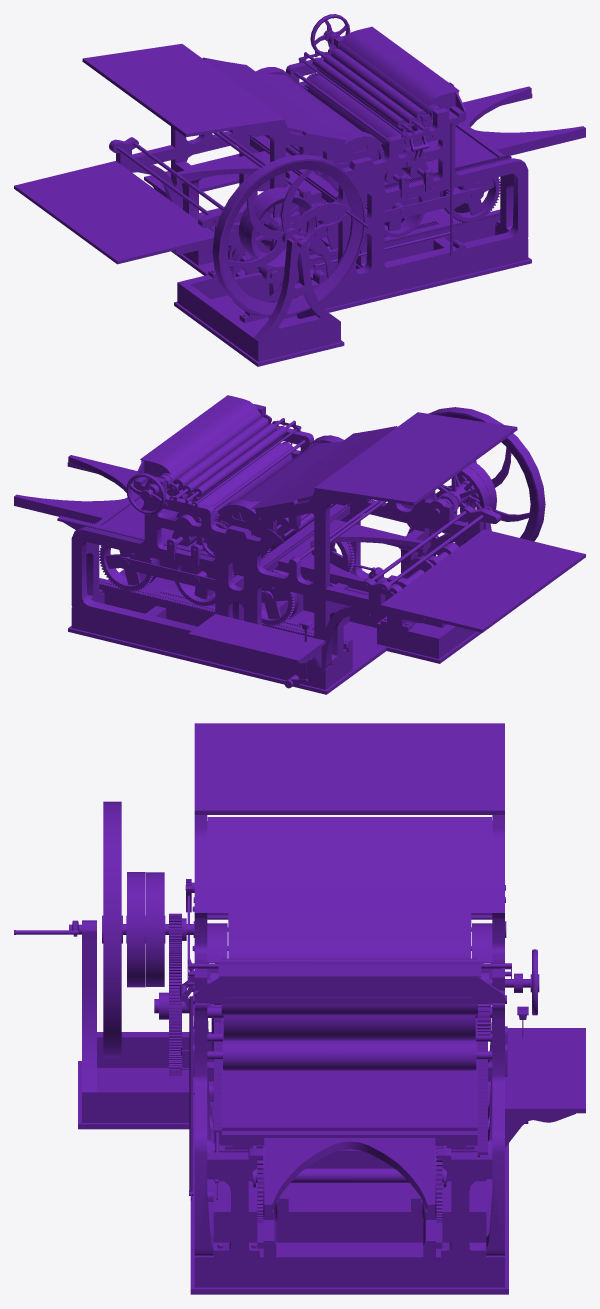
The model's file is printer.glb.
The picture shows the model from 3 angles, top to bottom: view 1: azimuth 30°, elevation 25°; view 2: azimuth 150°, elevation 25°; view 3: azimuth 270°, elevation 25°; orthographic projection. The views are drawn at different scales.
Parts seen in each view (by area): view 1: Plane.002, Plane.004, Plane.003, Cylinder.052, Cube.082, Cube.069, Plane.001, Cube.036, Cube.058, Cube.068, Cube.043, Cylinder.053 (+27 smaller); view 2: Plane.001, Plane.004, Plane.003, Cube.082, Plane.002, Cube.068, Cube.036, Plane.005, Cube.022, Cylinder.052, Cube.043, Plane.020 (+27 smaller); view 3: Plane.003, Plane.008, Plane.010, Plane.020, Cube.082, Cube.022, Cylinder.010, Cube.041, Cube.033, Plane.005, Cylinder.003, Cube.069 (+24 smaller).
Boxes of the visible parts, x1,y1,x2,y2 form: Plane.002: (173, 108, 528, 300); Plane.004: (14, 161, 214, 264); Plane.003: (82, 44, 285, 136); Cylinder.052: (212, 154, 366, 316); Cube.082: (183, 187, 528, 319); Cube.069: (177, 269, 340, 361); Plane.001: (109, 35, 345, 218); Cube.036: (342, 26, 459, 106); Cube.058: (254, 234, 340, 341); Cube.068: (208, 191, 500, 283); Cube.043: (449, 86, 585, 153); Cylinder.053: (239, 187, 317, 267); Plane.001: (71, 476, 427, 668); Plane.004: (380, 529, 585, 632); Plane.003: (314, 412, 517, 505); Cube.082: (71, 569, 416, 689); Plane.002: (254, 404, 501, 582); Cube.068: (99, 559, 386, 652); Cube.036: (140, 395, 258, 474); Plane.005: (188, 614, 325, 663); Cube.022: (68, 577, 419, 694); Cylinder.052: (401, 407, 545, 554); Cube.043: (14, 455, 150, 521); Plane.020: (244, 430, 372, 509); Plane.003: (194, 723, 504, 814); Plane.008: (194, 817, 504, 887); Plane.010: (222, 1018, 477, 1145); Plane.020: (194, 887, 504, 939); Cube.082: (194, 1096, 504, 1287); Cube.022: (190, 1100, 508, 1294); Cylinder.010: (207, 1039, 492, 1070); Cube.041: (213, 1204, 486, 1242); Cube.033: (221, 977, 478, 1004); Plane.005: (505, 1028, 585, 1113); Cylinder.003: (207, 1007, 492, 1039); Cube.069: (82, 1032, 211, 1122).
Bounding box in the file's own units: 0.7032 × 0.2901 × 0.4719.
